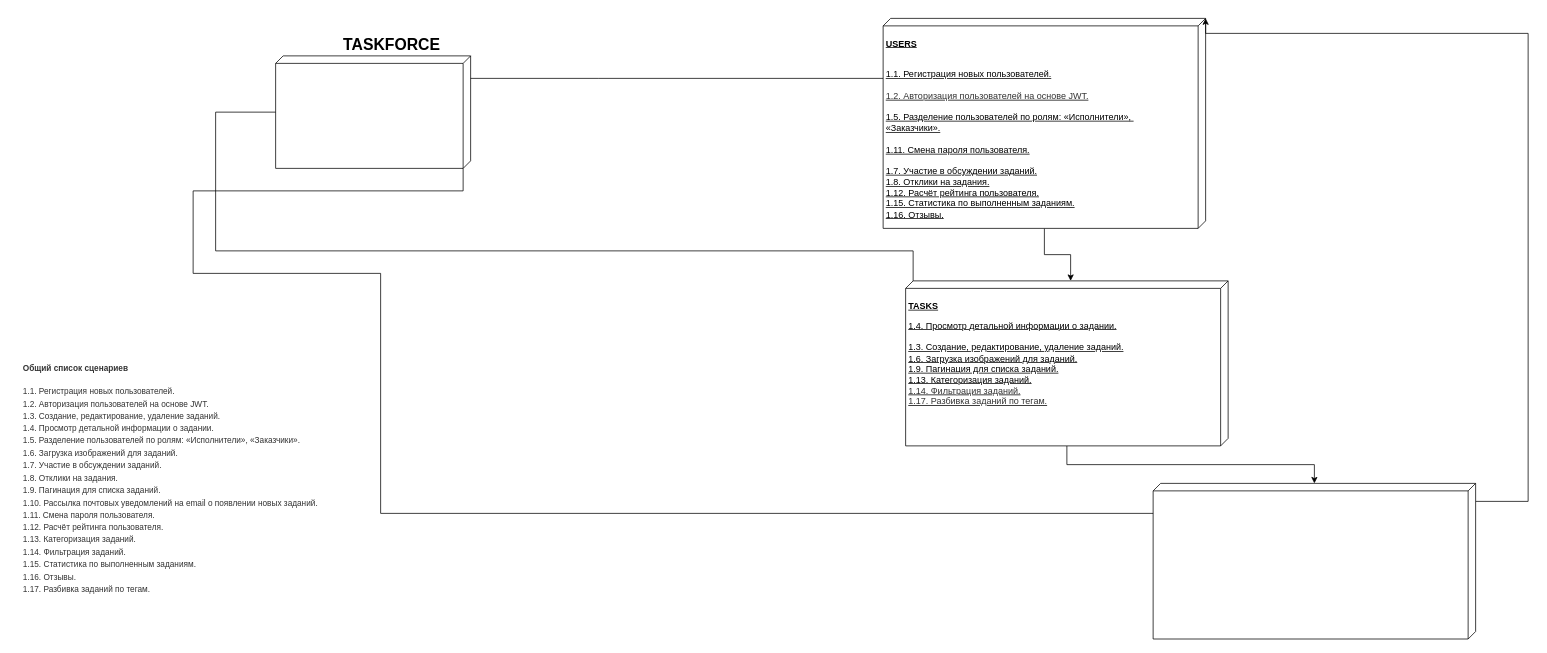
Some shapes in this 1547 by 653 pixel diagram are drawn without their labels. The box of each missing label's shape, as (x1, y1, x2, y2) in pixels:
MAIL 1.10. Рассылка почтовых уведомлений на email о появлении новых заданий.: (1152, 483, 1476, 639)
REST API: (275, 55, 471, 168)
